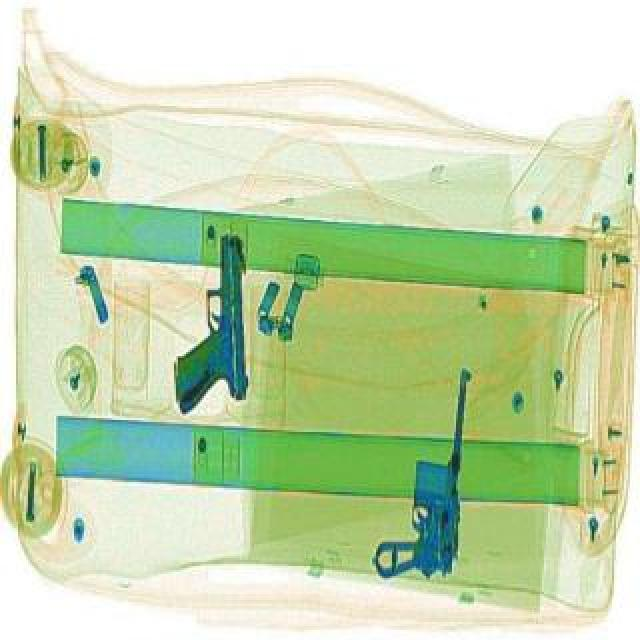gun: (368, 366, 480, 590), (170, 238, 248, 418)
